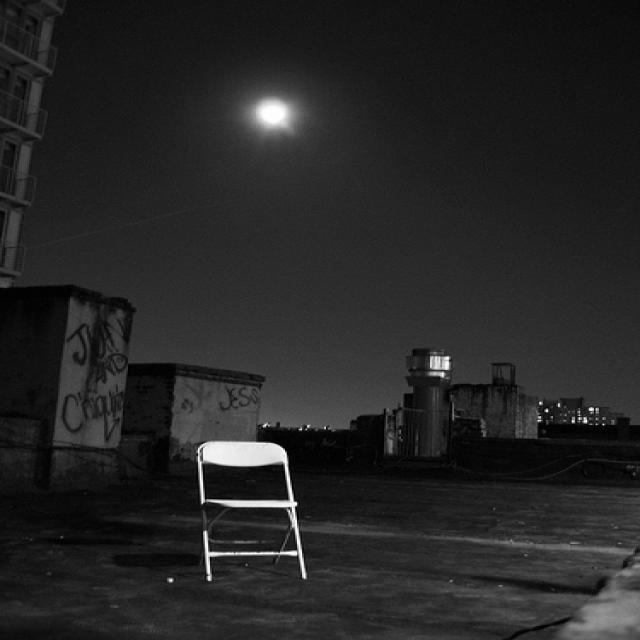chair: (184, 436, 310, 584)
